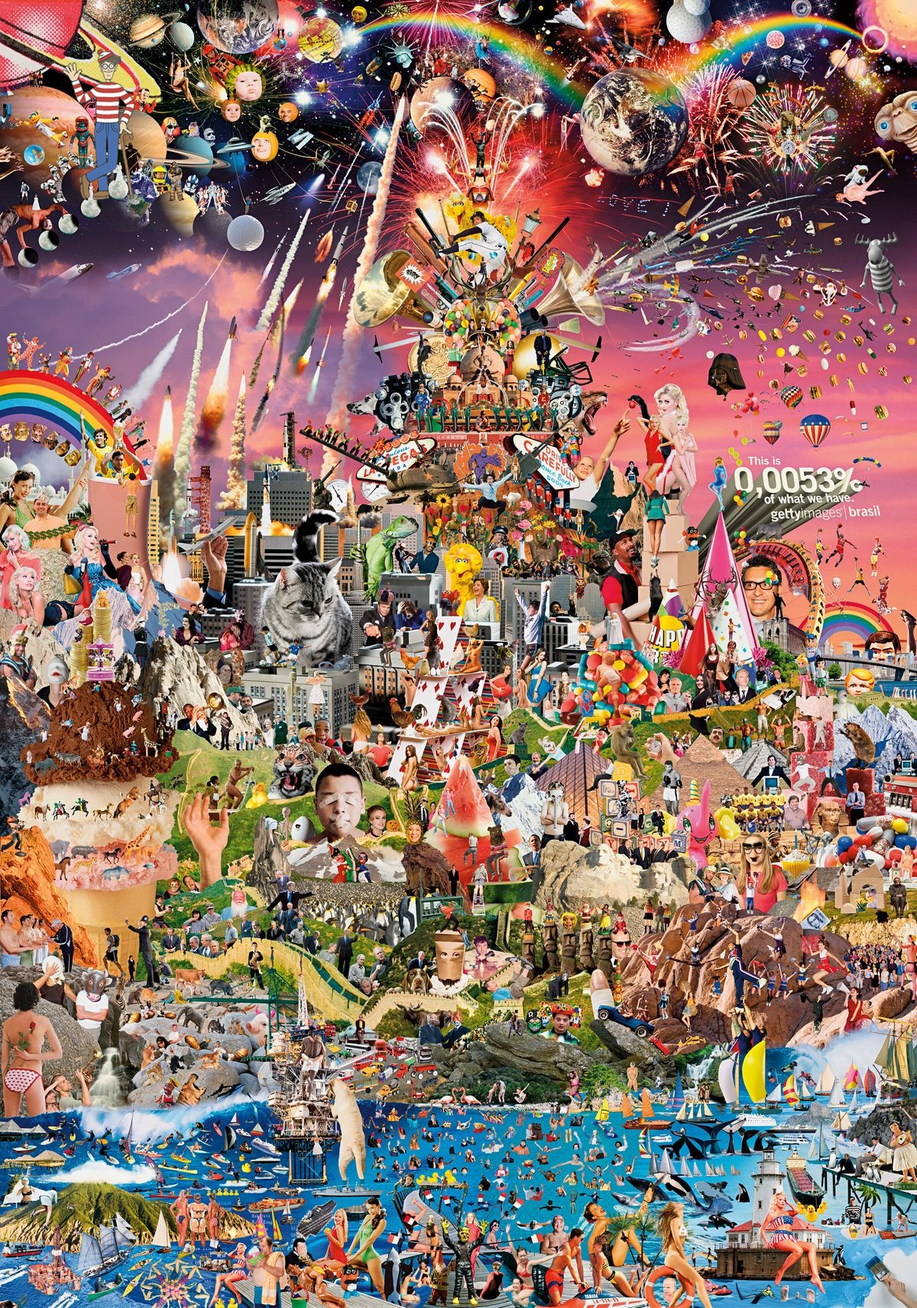waldo: (63, 48, 135, 200)
